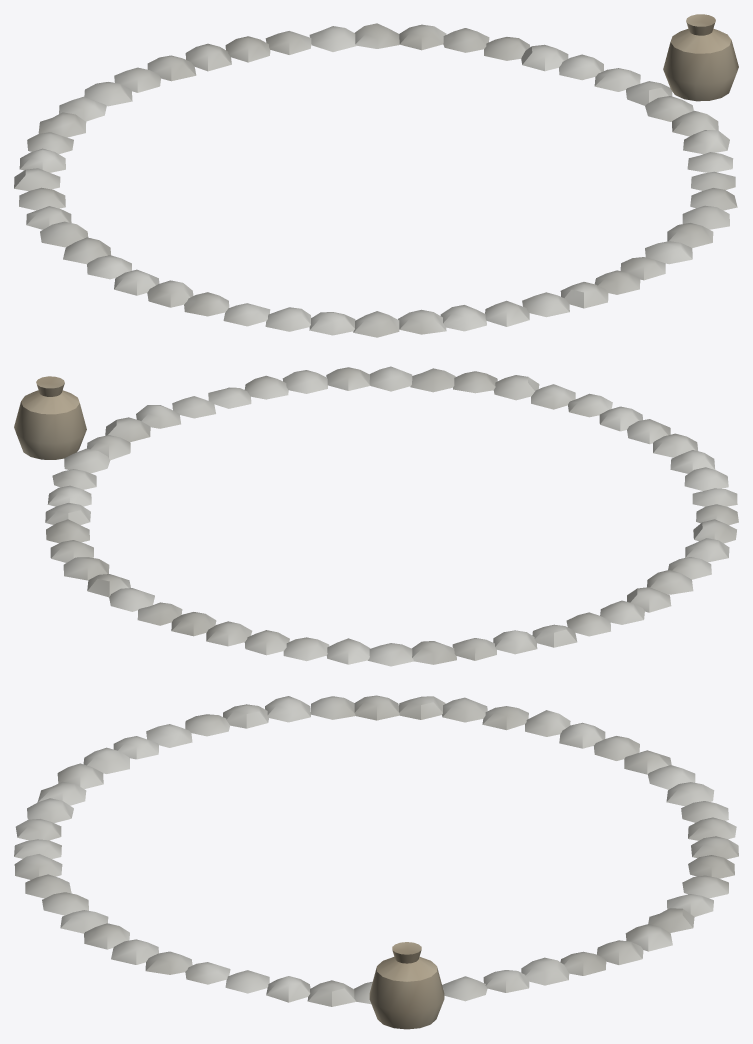
File: salt-circle.glb
3 views of the same model, one above another, from view 1: azimuth 30°, elevation 25°; view 2: azimuth 150°, elevation 25°; view 3: azimuth 270°, elevation 25° (orthographic). The views are drawn at different scales.
Visible parts, largest first — view 1: salt-circle; view 2: salt-circle; view 3: salt-circle.
Boxes of the visible parts, x1,y1,x2,y2 form: salt-circle: (14,14,738,337); salt-circle: (14,366,738,666); salt-circle: (14,695,738,1029).
Bounding box in the file's own units: 1.05 × 0.1018 × 0.9609.
